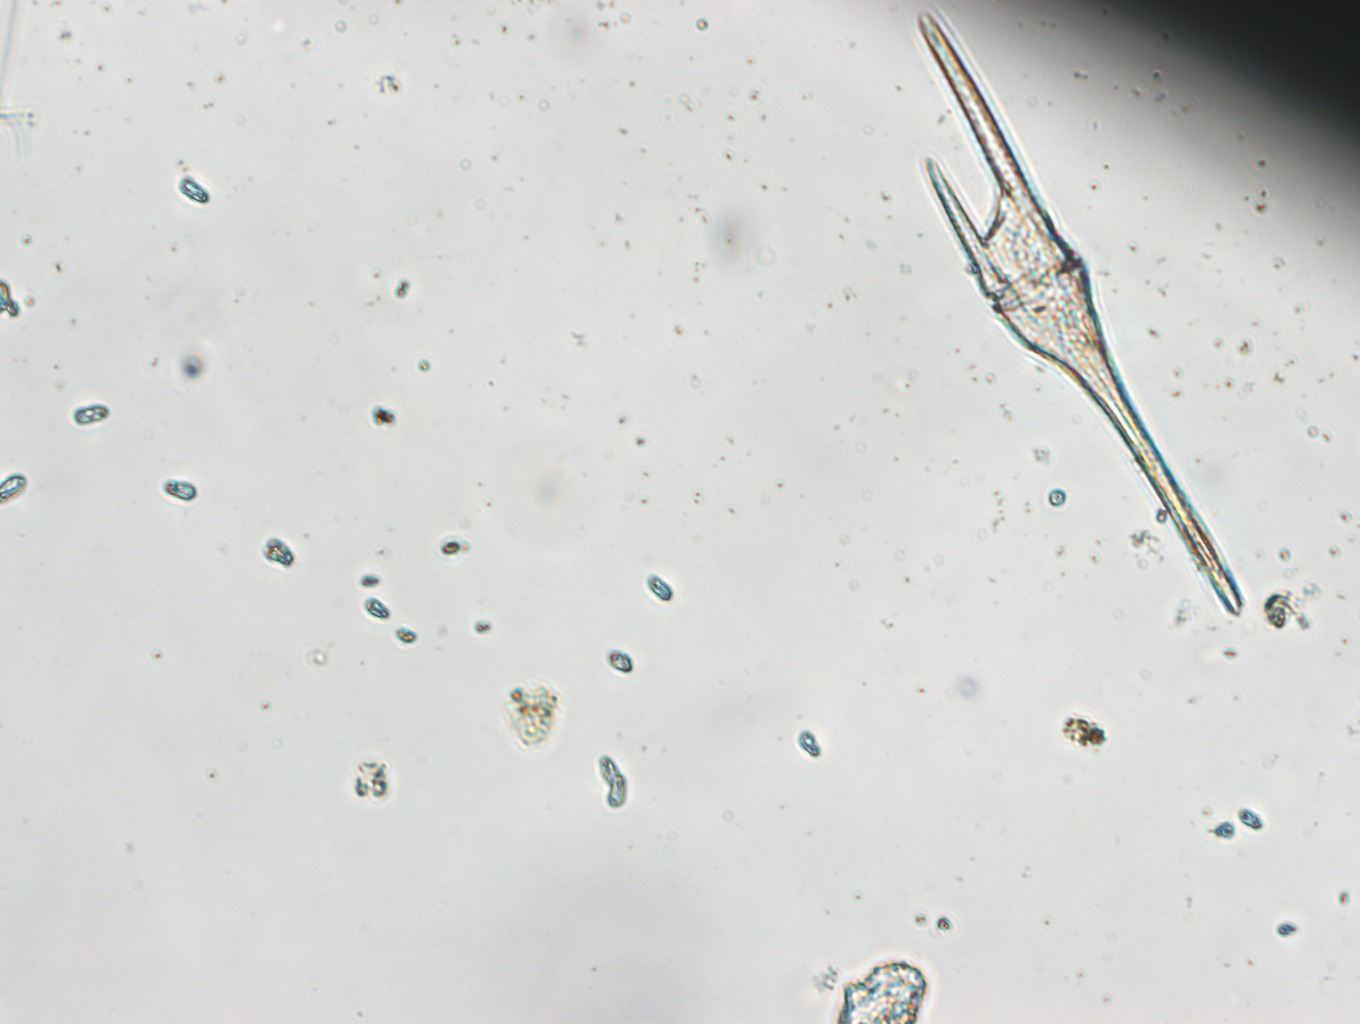ceratium furca: (915, 12, 1245, 618)
